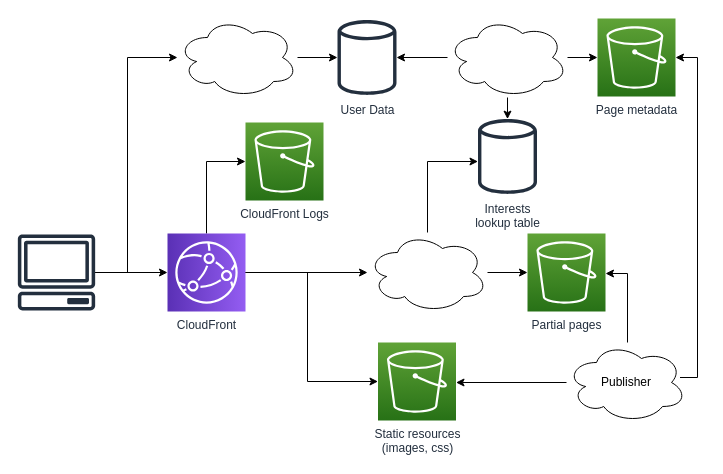
The diagram is 723 pixels wide and 474 high, and some of its shapes have lost their labels. The box of each missing label's shape, as (x1, y1, x2, y2) in pixels:
Activity Tracker: (176, 16, 298, 98)
Classifier: (446, 16, 568, 98)
Stitcher: (366, 232, 488, 312)
Website visitor: (17, 234, 95, 310)
